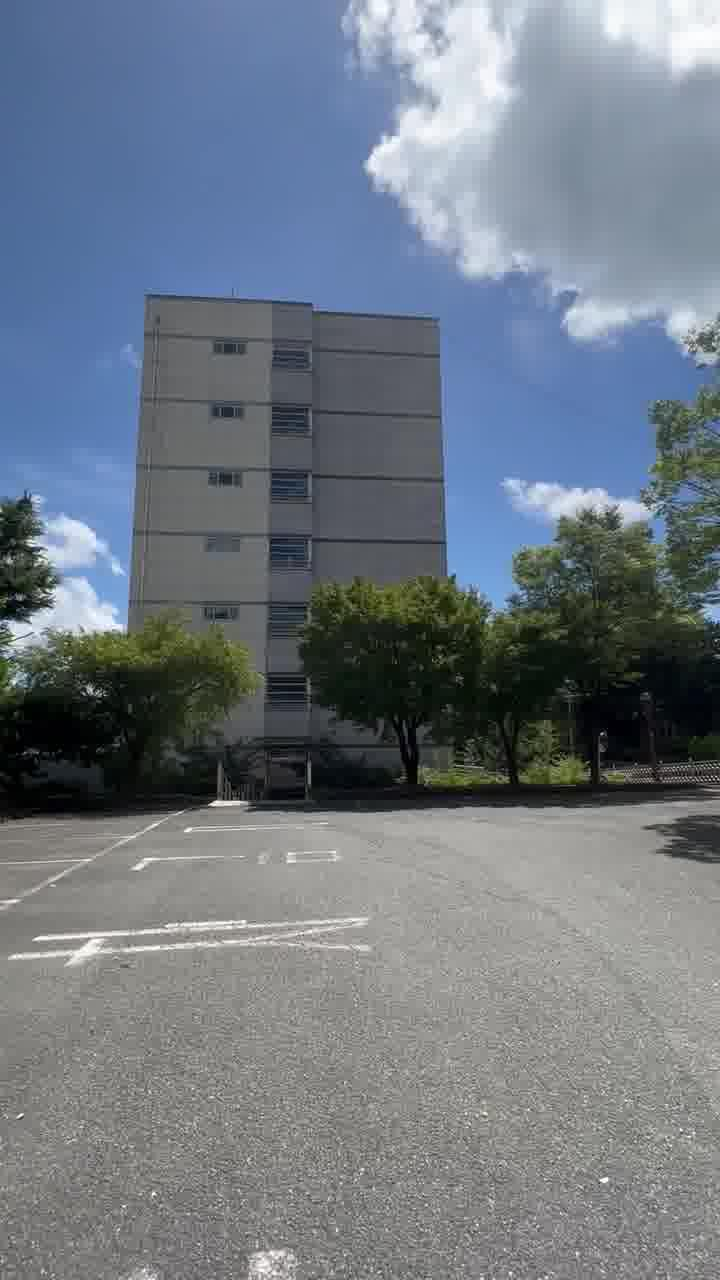building: (110, 282, 510, 604)
